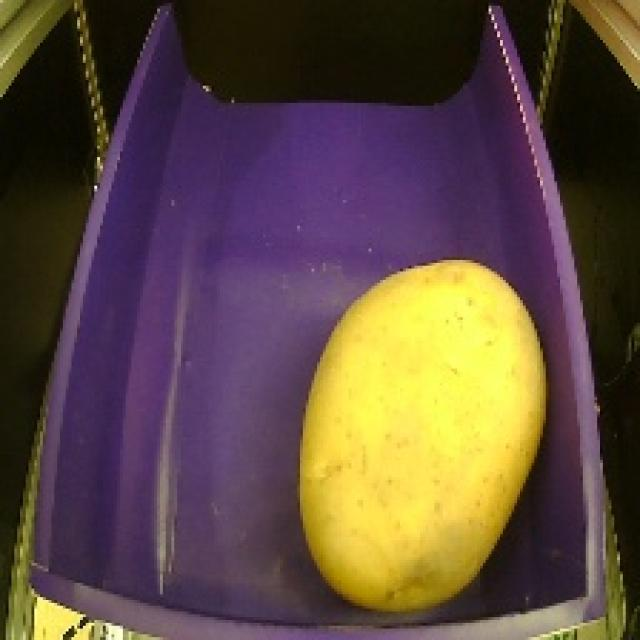full_potato: (276, 235, 554, 622)
